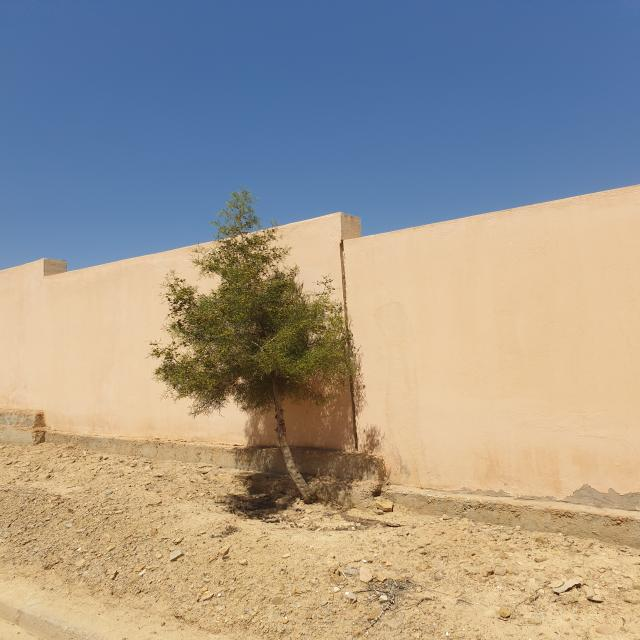Tree: (150, 188, 356, 504)
